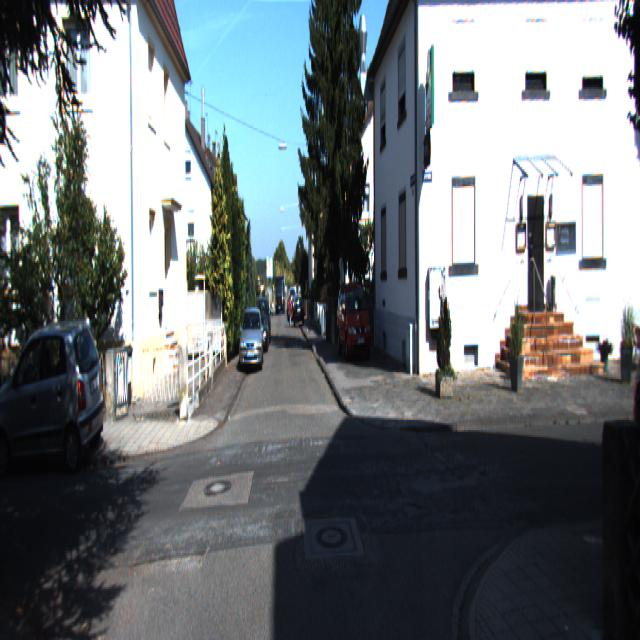Car: (0, 322, 109, 478), (335, 276, 371, 361), (239, 306, 263, 373)
